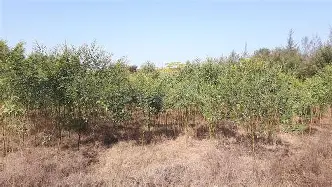crops: (0, 28, 327, 142), (0, 140, 325, 186), (0, 92, 26, 154), (146, 159, 202, 185), (60, 163, 120, 187), (296, 148, 330, 181), (286, 122, 307, 135)
